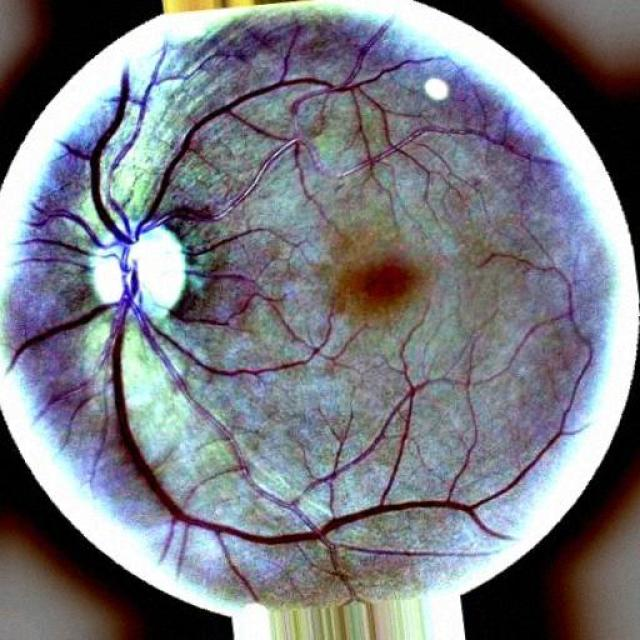Macula: (361, 260, 414, 302)
